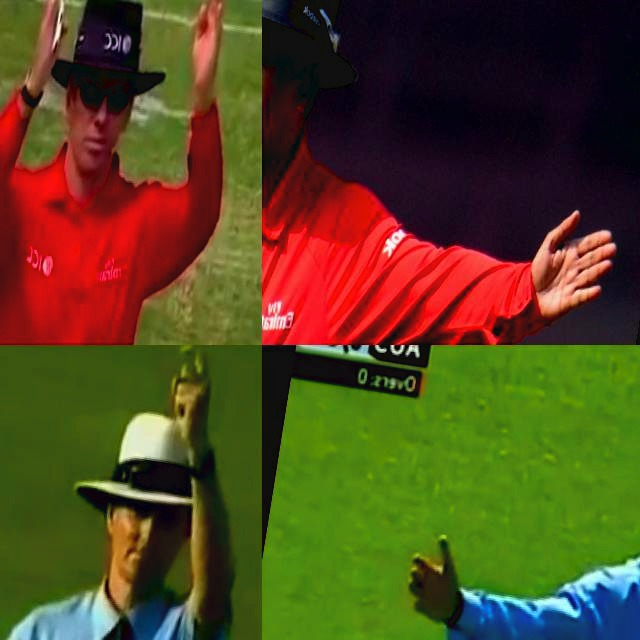No_Ball: (262, 0, 640, 345), (358, 372, 640, 640)
Out: (0, 345, 262, 640)
Six: (0, 0, 262, 345)
